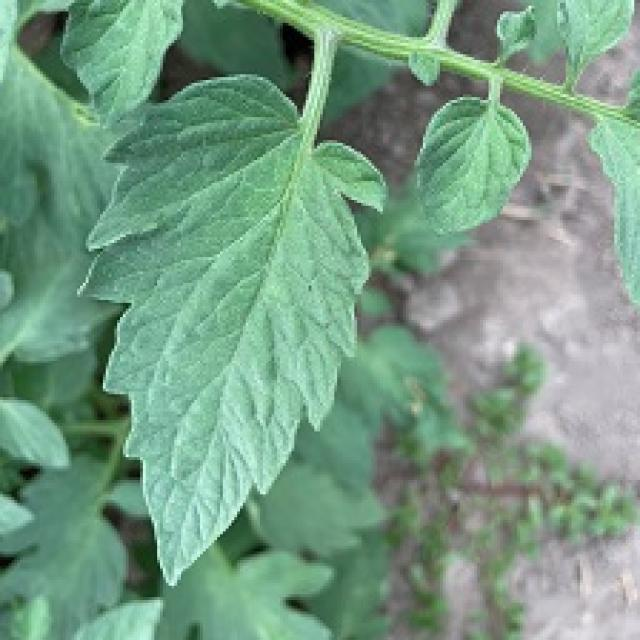Healthy: (26, 52, 405, 609), (394, 83, 544, 254)
